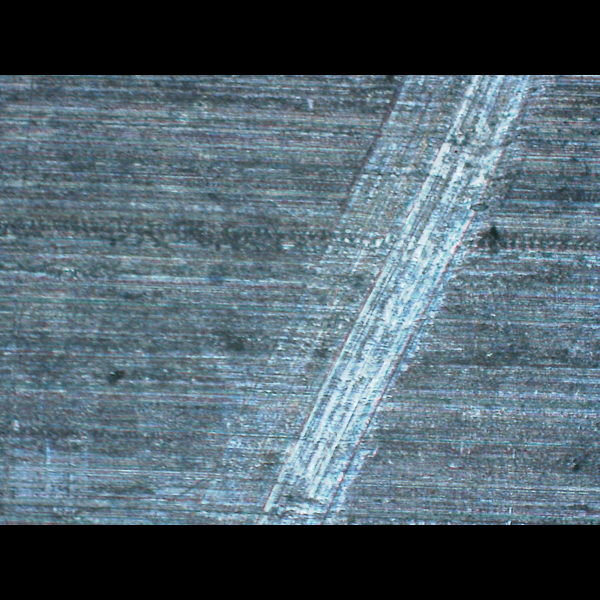d: (341, 74, 556, 359), (196, 309, 410, 523)
